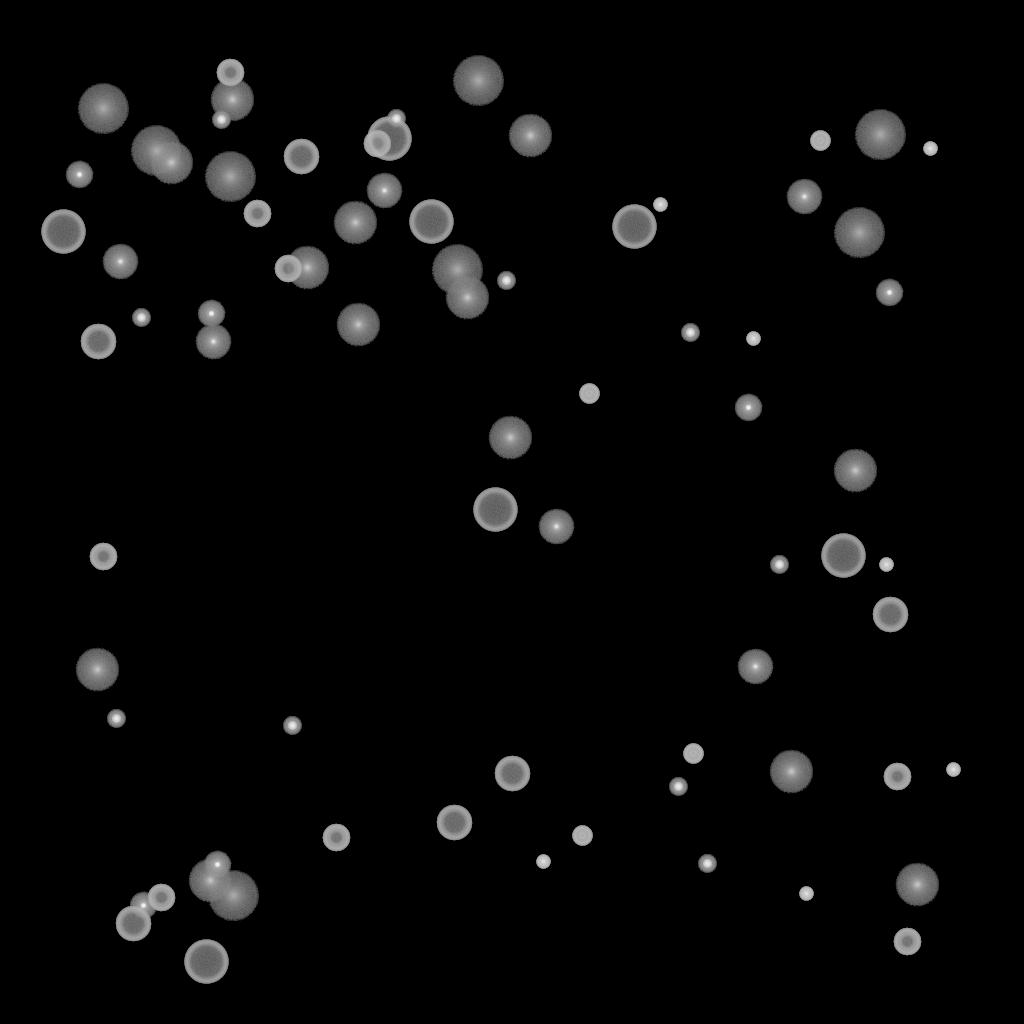depth:-10: (734, 394, 762, 422), (65, 161, 93, 189), (875, 279, 903, 307), (129, 892, 157, 920), (197, 300, 225, 328), (203, 851, 231, 879)
depth:-20: (132, 309, 150, 327), (698, 855, 716, 873), (497, 272, 515, 290), (212, 111, 230, 129), (283, 717, 301, 735), (681, 324, 699, 342), (770, 556, 788, 574), (387, 110, 405, 128), (669, 778, 687, 796), (107, 710, 125, 728)
depth:-30: (879, 558, 893, 572), (946, 763, 960, 777), (799, 887, 813, 901), (653, 198, 667, 212), (923, 142, 937, 156), (746, 332, 760, 346), (536, 855, 550, 869)
depth:-40: (683, 744, 703, 764), (810, 131, 830, 151), (579, 384, 599, 404), (572, 826, 592, 846)
depth:-50: (274, 255, 302, 283), (89, 543, 117, 571), (363, 130, 391, 158), (243, 200, 271, 228), (216, 59, 244, 87), (322, 824, 350, 852), (883, 763, 911, 791), (893, 928, 921, 956), (147, 884, 175, 912)
depth:-60: (494, 756, 530, 792), (436, 805, 472, 841), (872, 597, 908, 633), (80, 324, 116, 360), (115, 906, 151, 942), (283, 139, 319, 175)
depth:-70: (612, 205, 656, 249), (41, 210, 85, 254), (184, 940, 228, 984), (821, 534, 865, 578), (367, 117, 411, 161), (473, 488, 517, 532), (409, 200, 453, 244)
depth:0: (102, 244, 138, 280), (366, 173, 402, 209), (538, 509, 574, 545), (195, 324, 231, 360), (737, 649, 773, 685), (786, 179, 822, 215)
depth:10: (488, 416, 532, 460), (210, 78, 254, 122), (895, 863, 939, 907), (188, 859, 232, 903), (333, 201, 377, 245), (769, 750, 813, 794), (149, 141, 193, 185), (336, 303, 380, 347), (508, 114, 552, 158), (833, 449, 877, 493), (285, 246, 329, 290), (445, 276, 489, 320), (75, 648, 119, 692)
depth:20: (130, 126, 182, 176), (207, 871, 259, 921), (77, 84, 129, 134), (854, 110, 906, 160), (833, 208, 885, 258), (452, 56, 504, 106), (431, 245, 483, 295), (204, 152, 256, 202)
